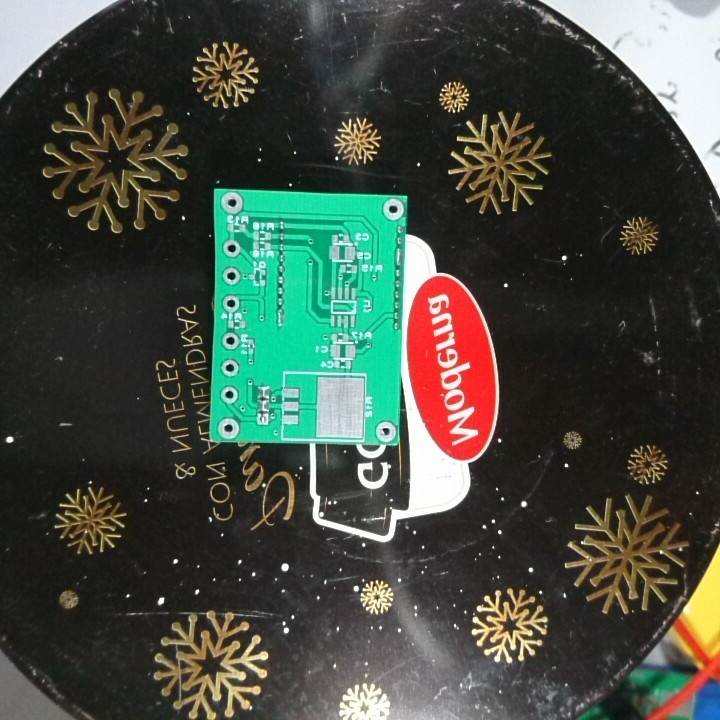F: (219, 189, 247, 217), (379, 196, 407, 223), (215, 414, 243, 440), (373, 418, 399, 446), (218, 383, 241, 409), (219, 355, 241, 379), (221, 238, 243, 261), (219, 291, 240, 315), (221, 329, 241, 353), (220, 266, 241, 287), (255, 410, 271, 431)
P: (273, 306, 287, 331), (392, 244, 405, 267)
